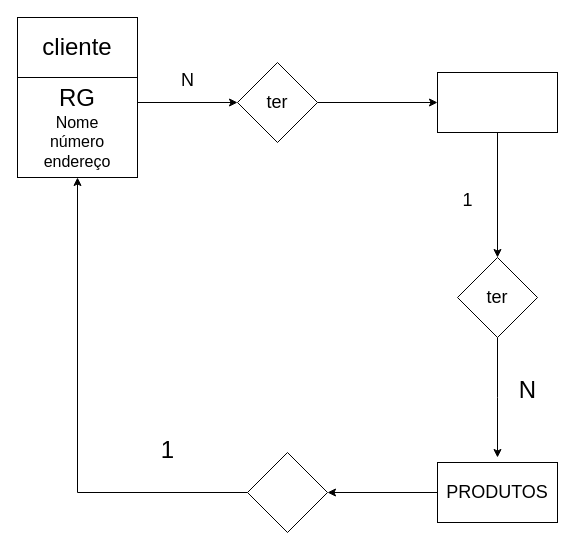
This 575x550 diagram has some shape labels left out. Each missing label, with the centre of its shape:
"Data" belongs at (287,492).
"Floricultura" belongs at (497,102).
